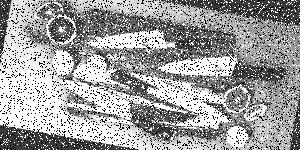knife: (53, 73, 179, 147), (102, 64, 237, 124), (156, 49, 291, 81), (85, 25, 214, 50)
